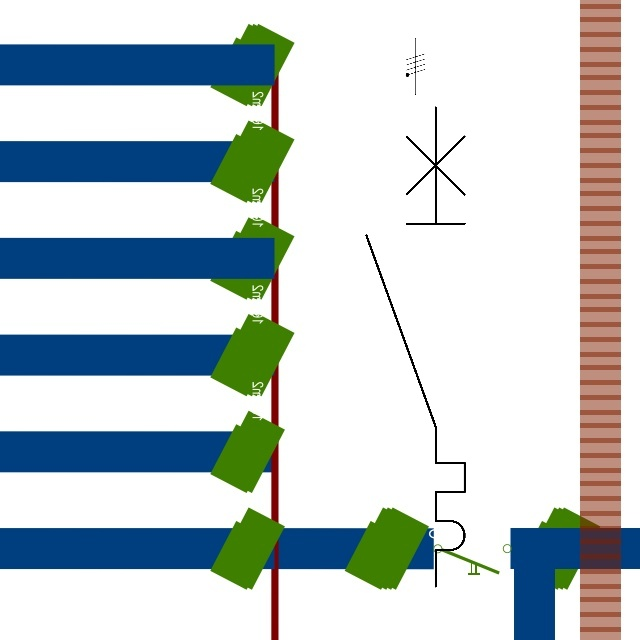interruptor_termomagnetico: (354, 94, 477, 598)
